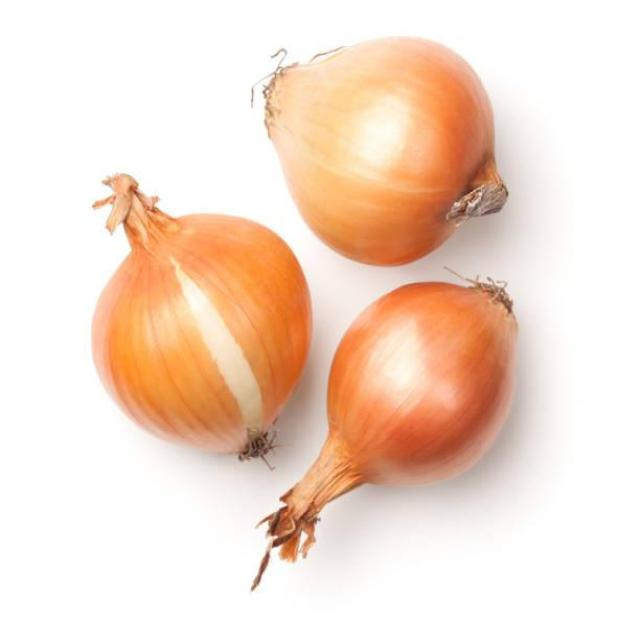Onion: (259, 282, 515, 545), (93, 174, 310, 455), (256, 37, 507, 265)
